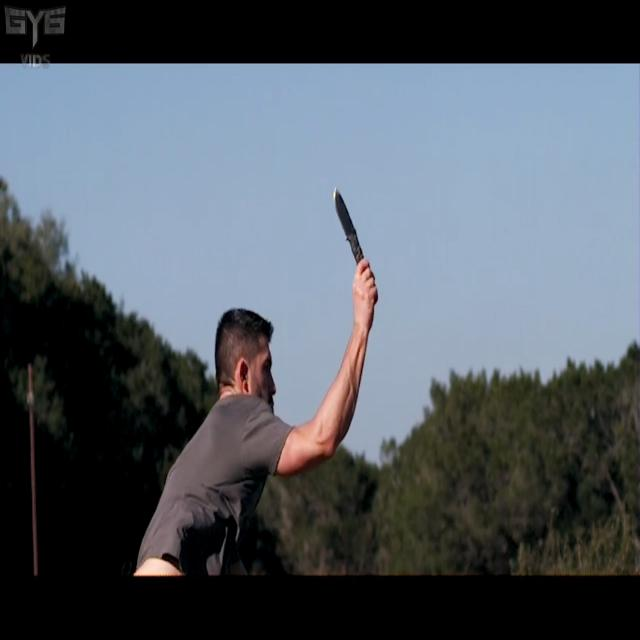knife: (333, 186, 380, 305)
